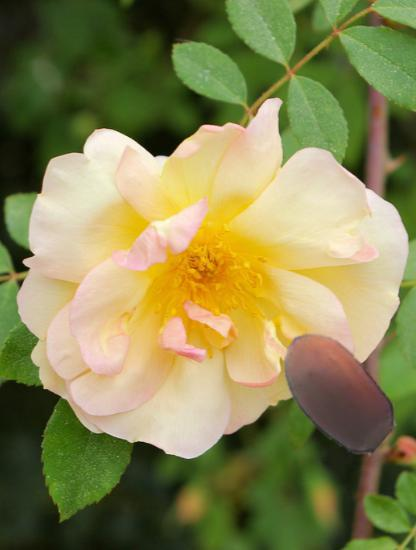Hazelnut: (267, 321, 405, 459)
